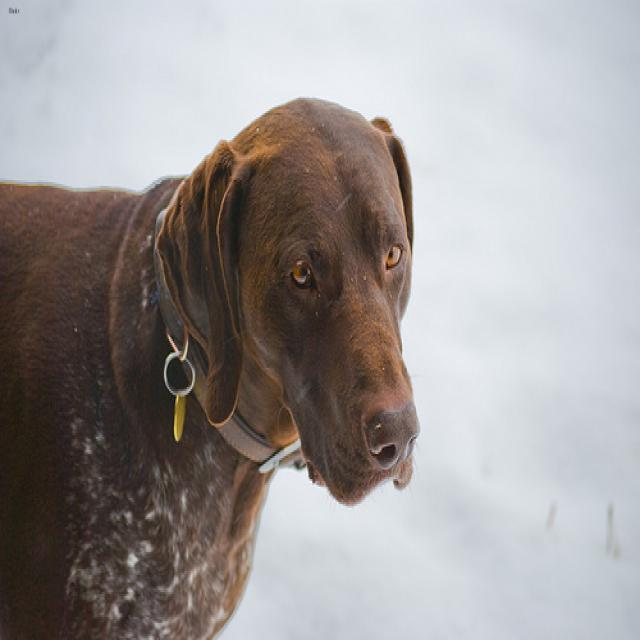dog-german_shorthaired: (1, 86, 429, 636)
